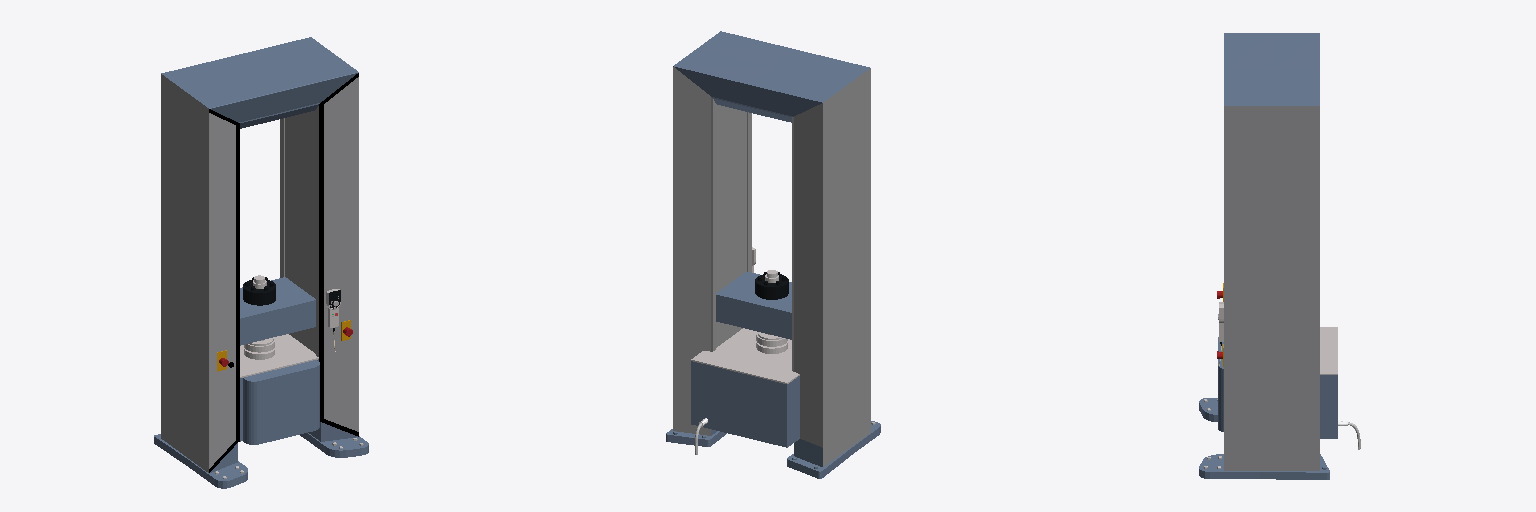
3 renders of one model, left to right at view 1: azimuth 30°, elevation 25°; view 2: azimuth 150°, elevation 25°; view 3: azimuth 270°, elevation 25°, orthographic.
Visible parts, largest first — view 1: Cube.010_Cube, Circle.029_Circle.001; view 2: Cube.010_Cube, Circle.029_Circle.001; view 3: Cube.010_Cube.
Boxes of the visible parts, box(x1,y1,x2,y2) form: Cube.010_Cube: box(154, 37, 368, 488); Circle.029_Circle.001: box(243, 275, 275, 359); Cube.010_Cube: box(666, 31, 880, 478); Circle.029_Circle.001: box(755, 270, 788, 353); Cube.010_Cube: box(1199, 33, 1347, 479).
Bounding box in the file's own units: 7.32 × 16.69 × 6.56.
Materials: 2 (1 with a texture image).